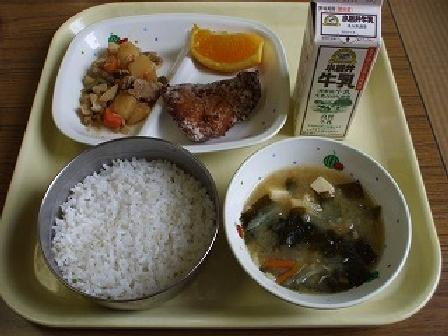Citrus: (185, 17, 268, 75)
Milk: (290, 0, 391, 140)
Rice: (48, 150, 212, 308)
Soups: (232, 148, 402, 297)
cooked food meat with vegetables: (76, 40, 162, 132)
cutlet: (160, 72, 260, 147)
